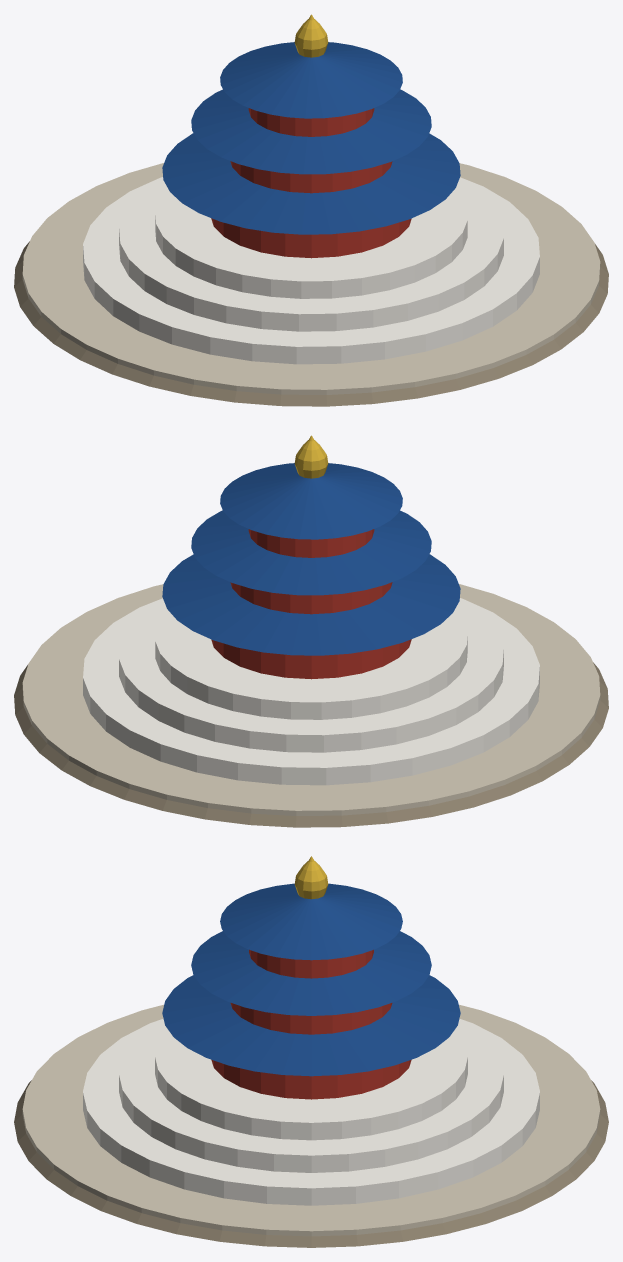
File: temple-of-heaven.glb
3 renders of one model, top to bottom at view 1: azimuth 30°, elevation 25°; view 2: azimuth 150°, elevation 25°; view 3: azimuth 270°, elevation 25°, orthographic.
Parts seen in each view (by area): view 1: temple-of-heaven; view 2: temple-of-heaven; view 3: temple-of-heaven.
Boxes of the visible parts, x1,y1,x2,y2 form: temple-of-heaven: [14, 14, 608, 406]; temple-of-heaven: [14, 435, 608, 827]; temple-of-heaven: [14, 856, 608, 1247].
Bounding box in the file's own units: 2.03 × 1 × 2.03.
